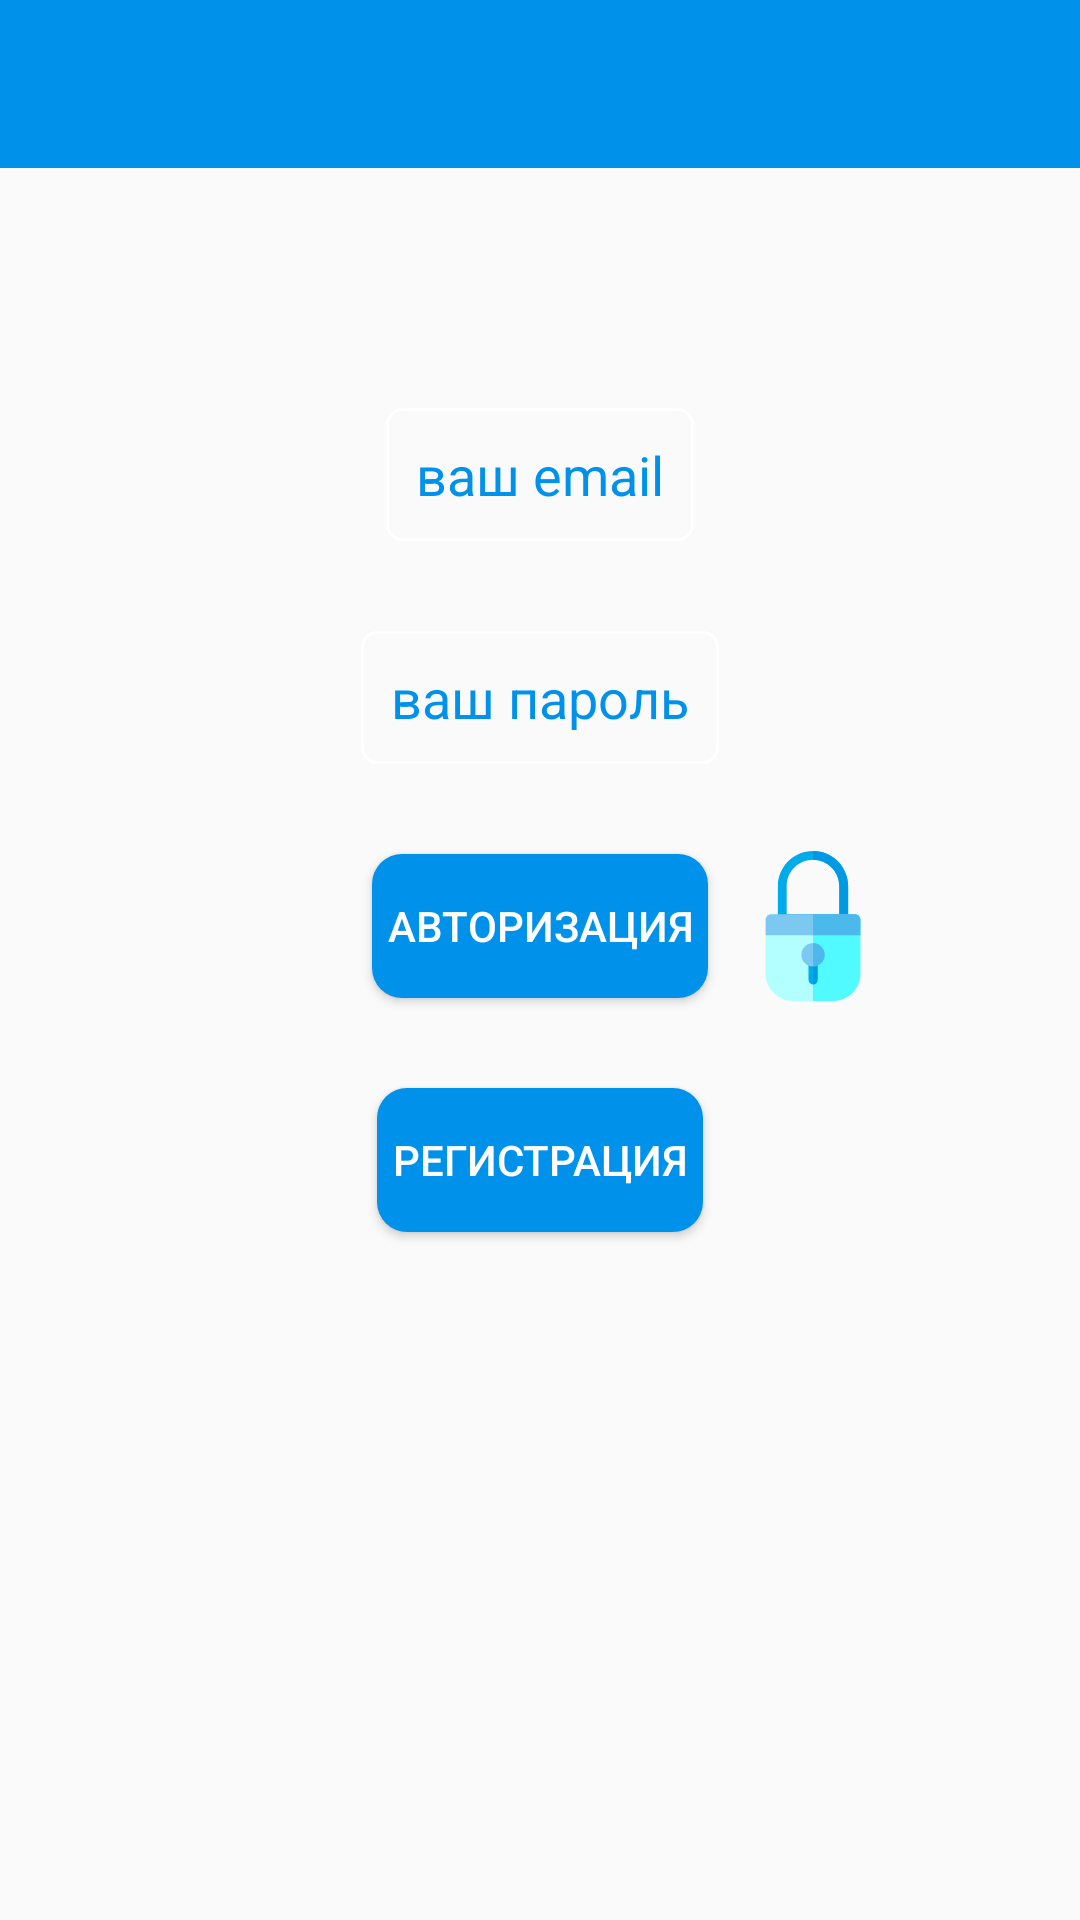

Icons on this 1080 × 1920 Android screen, each with the point to tap as (x=x, y=y):
lock: (x=813, y=926)
